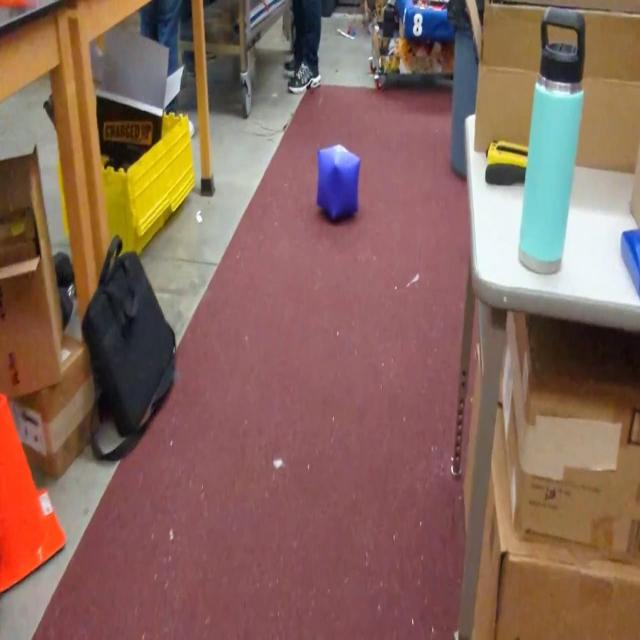frc_cube: (316, 142, 362, 223)
